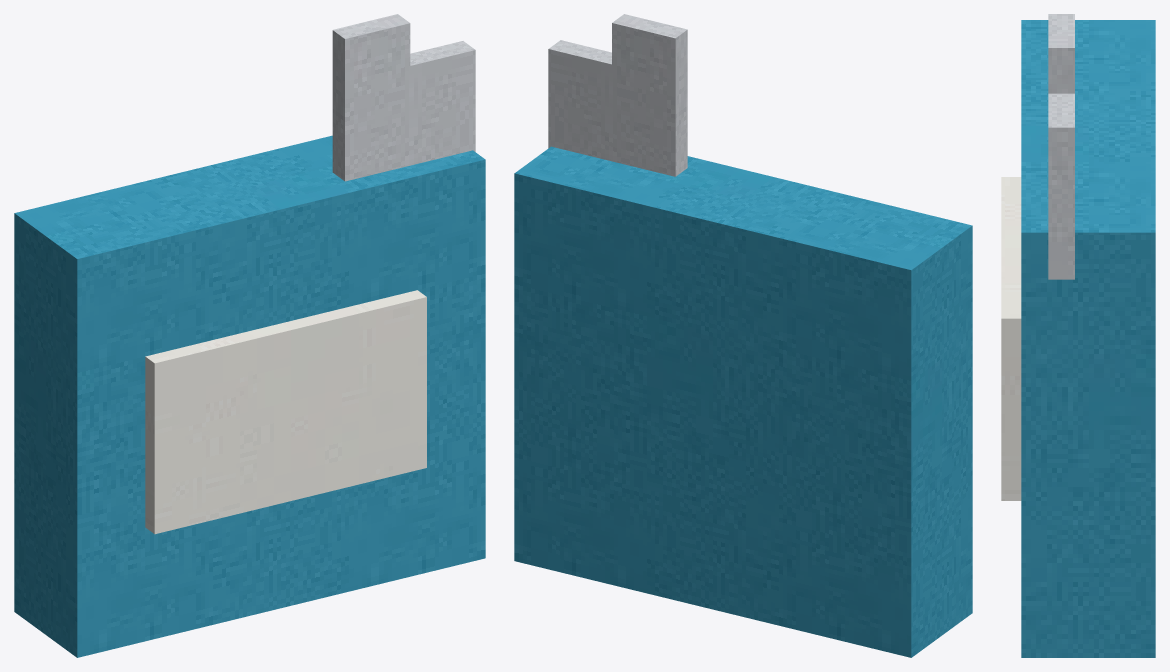
The picture shows the model from 3 angles, left to right: view 1: azimuth 30°, elevation 25°; view 2: azimuth 150°, elevation 25°; view 3: azimuth 270°, elevation 25°; orthographic projection. The views are drawn at different scales.
Visible parts, largest first — view 1: bubble_gum; view 2: bubble_gum; view 3: bubble_gum.
Boxes of the visible parts, x1,y1,x2,y2 form: bubble_gum: [14, 14, 485, 657]; bubble_gum: [514, 14, 972, 657]; bubble_gum: [1001, 14, 1155, 657].
Bounding box in the file's own units: 0.0755 × 0.095 × 0.023.
3 materials, 3 textured.
